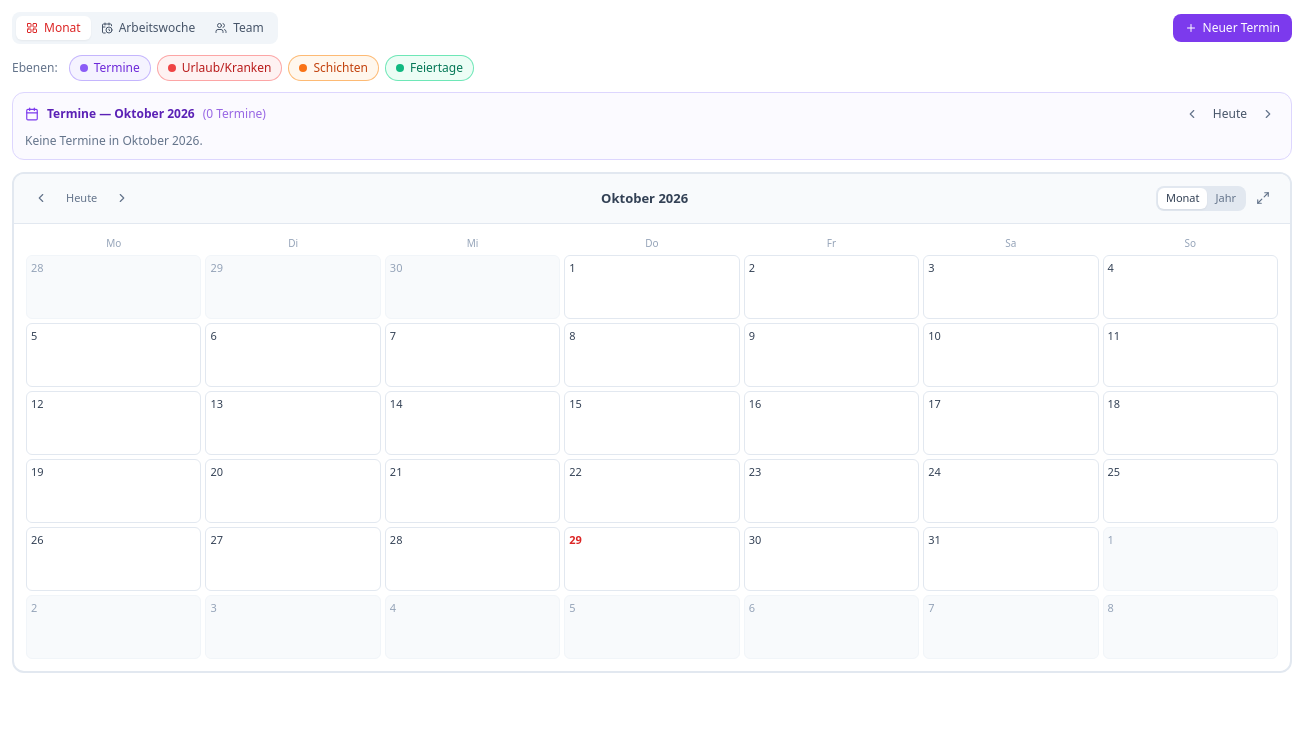
Test case: UnifiedCalendar › toggling the appointments layer hides the summary panel and persists to localStorage
The image size is (1304, 732).
Expected: the text "Termine — Oktober 2026" is shown, [47,106,195,122]
Click the button with test id "layer-toggle-appointment" at point(110, 68), box [70,56,150,80]
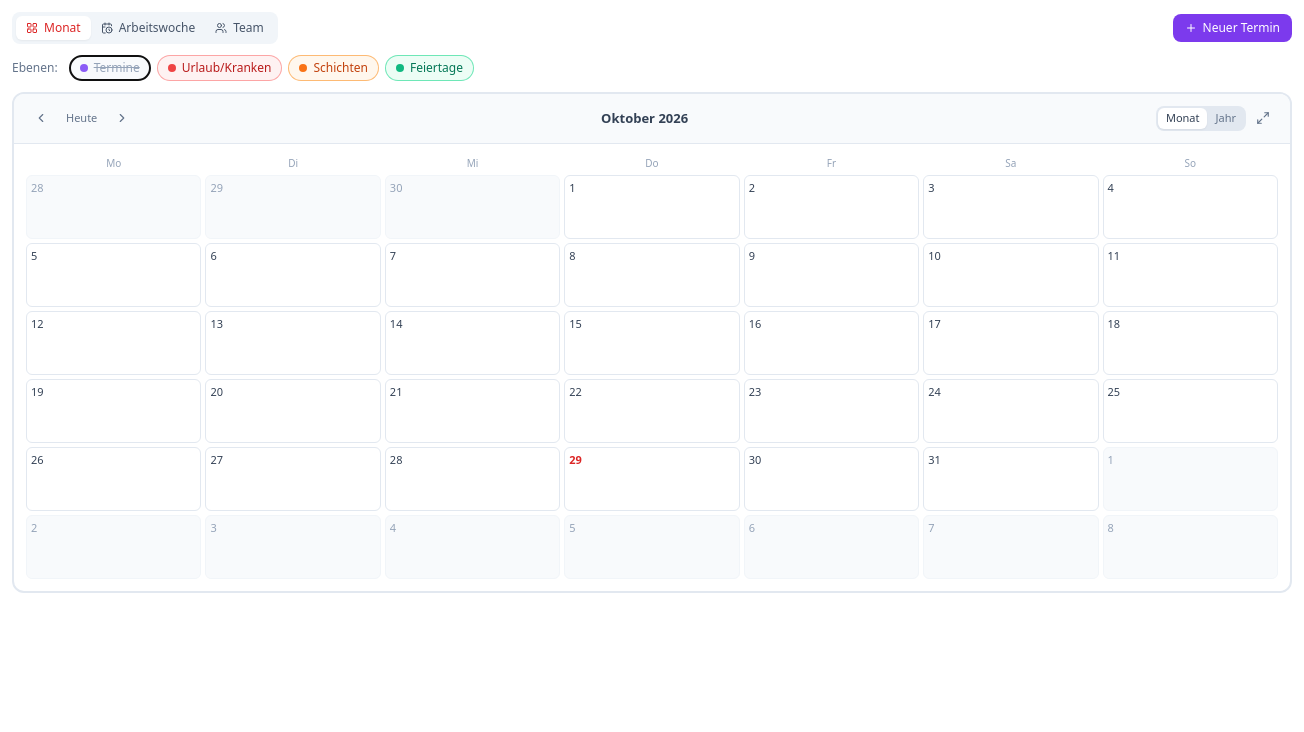
Expected: the text "Termine —" is gone
